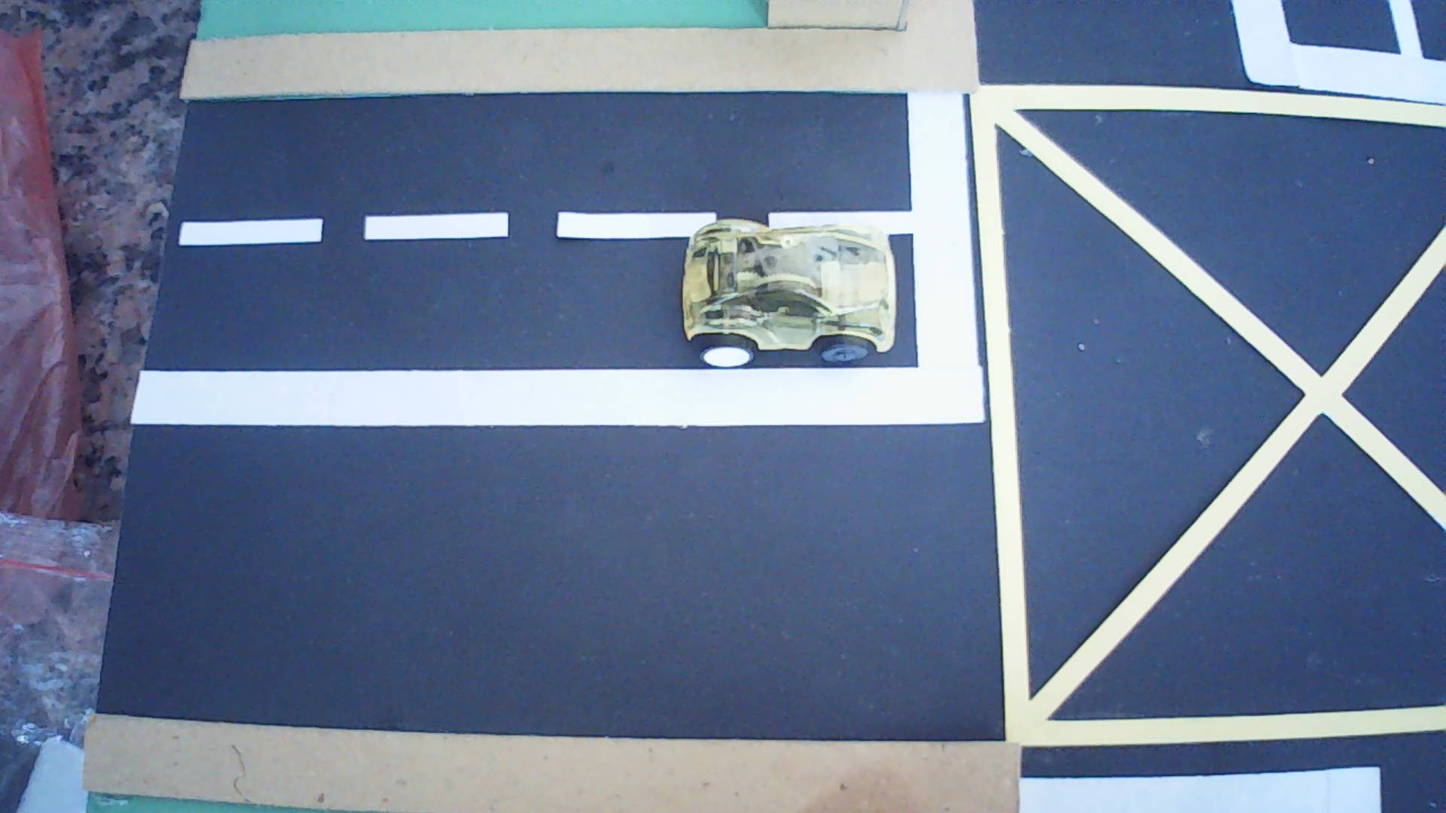Mobil kuning: (681, 220, 897, 367)
